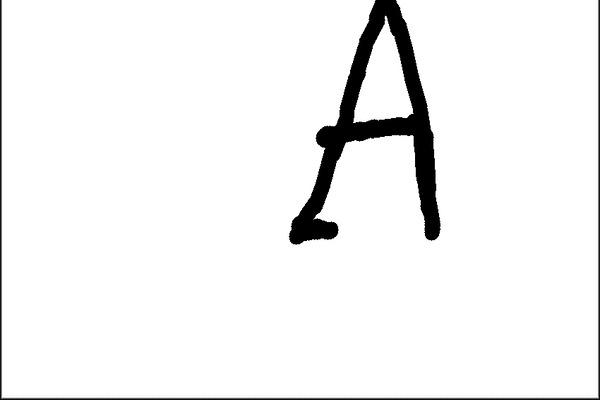A: (272, 5, 462, 258)
